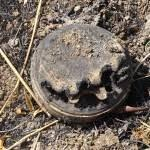pmn: (29, 21, 137, 126)
